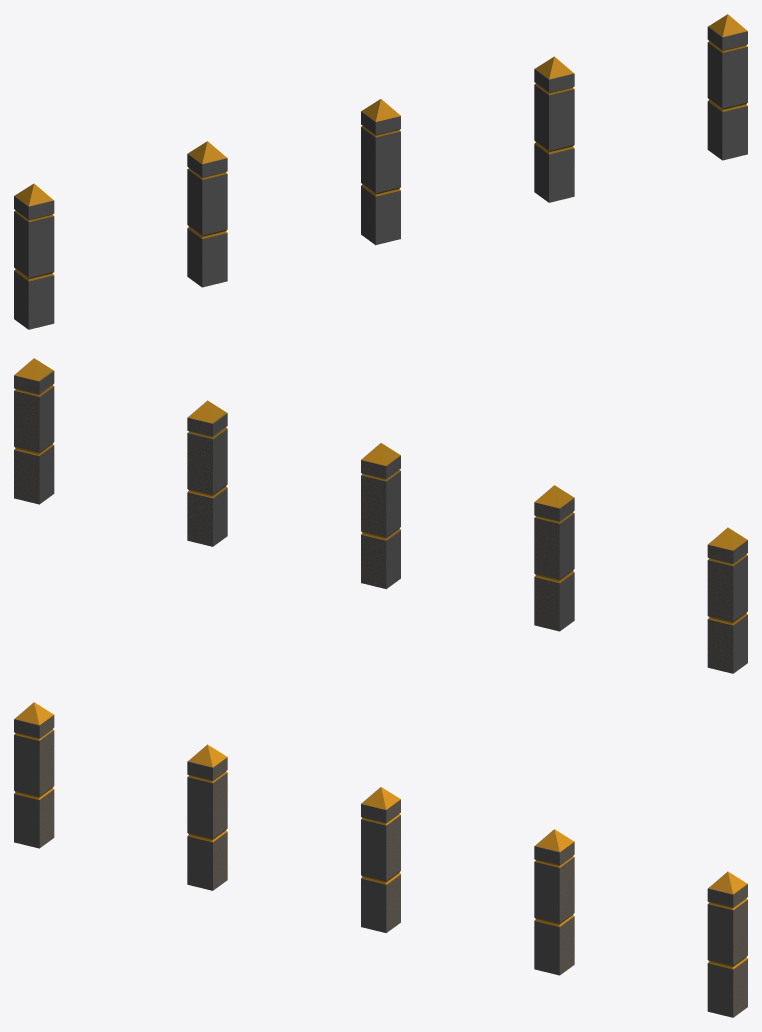
3 views of the same model, one above another, from view 1: azimuth 30°, elevation 25°; view 2: azimuth 150°, elevation 25°; view 3: azimuth 330°, elevation 25° (orthographic).
Visible parts, largest first — view 1: bollards; view 2: bollards; view 3: bollards.
Part boxes in pixels (x1,y1,x2,y2): bollards: [14, 14, 747, 329]; bollards: [14, 358, 747, 673]; bollards: [14, 702, 747, 1017].
Size of the model in its own units: 366 by 67.18 by 12.99.
1 material, 1 textured.
